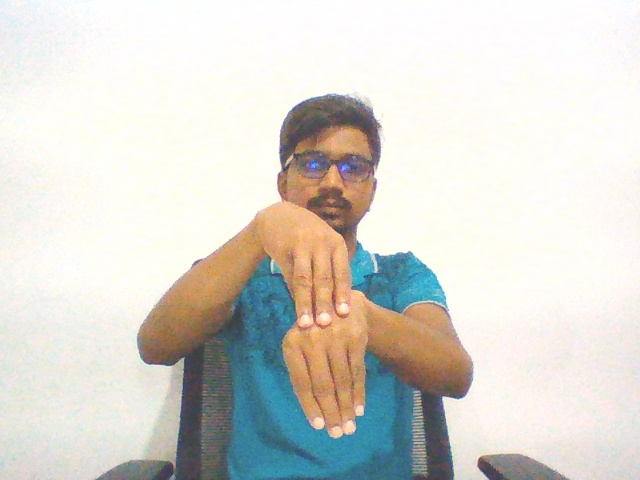papaya: (251, 194, 376, 443)
